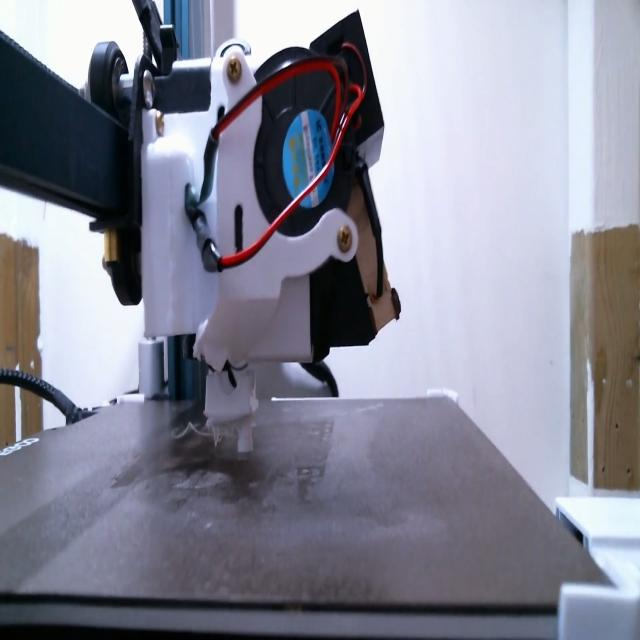spaghetti: (204, 416, 243, 463)
